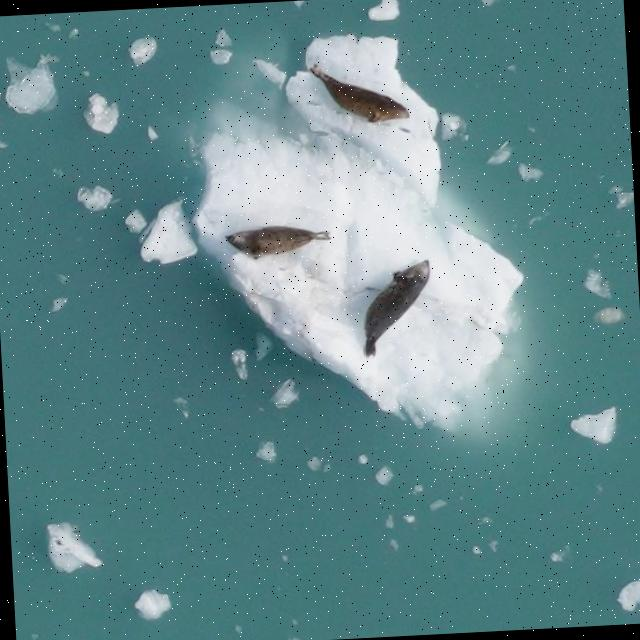seal: (343, 247, 442, 362), (298, 56, 415, 138), (226, 223, 332, 262)
